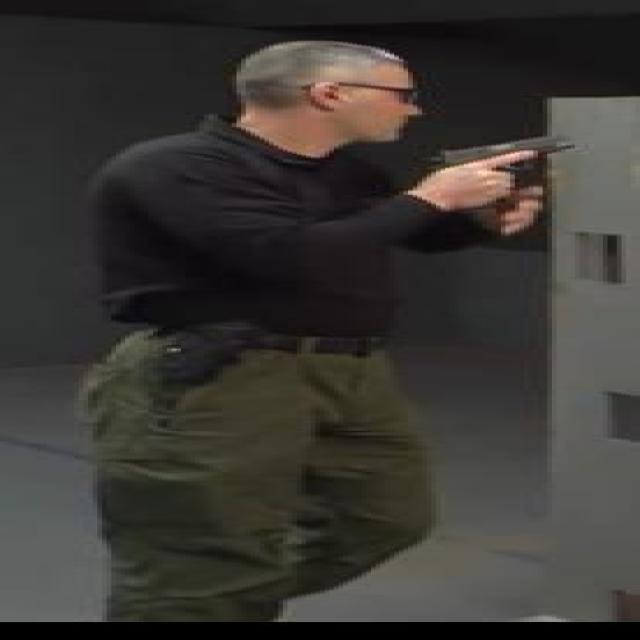Gun: (434, 119, 578, 213)
